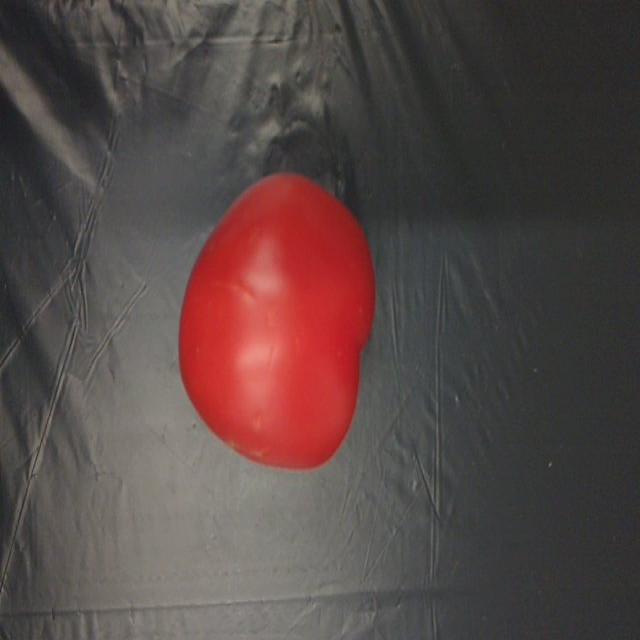kirmizi: (167, 160, 374, 472)
